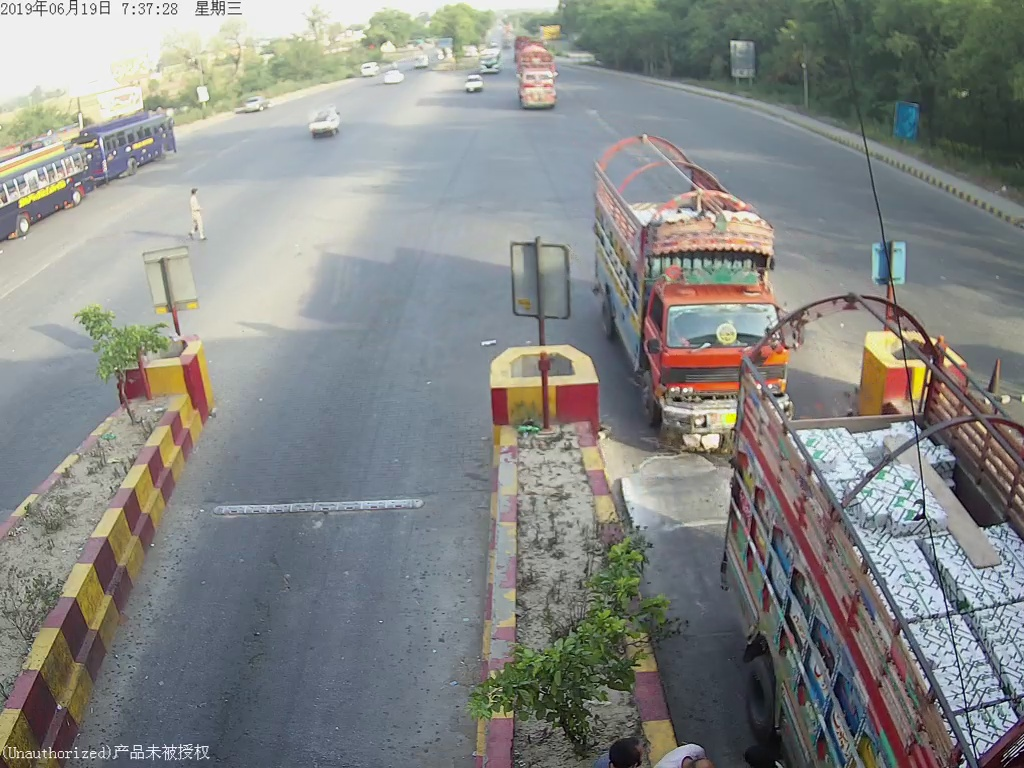Cat-4: (591, 137, 800, 439), (515, 44, 562, 115)
